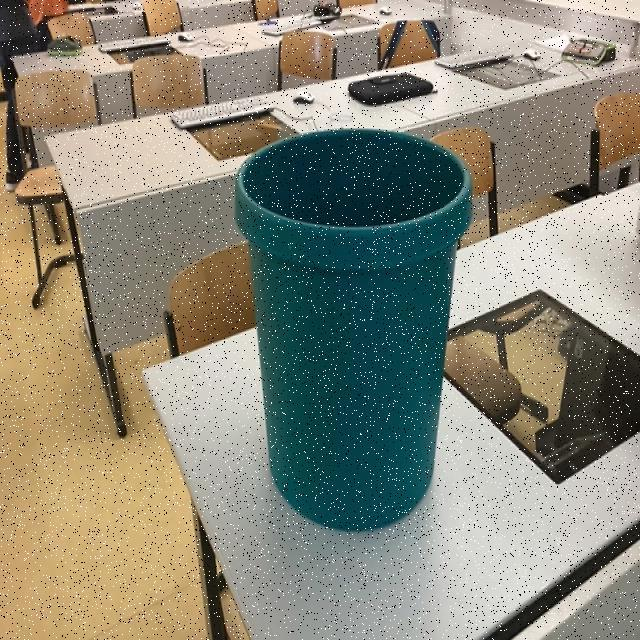garbage container: (228, 91, 504, 551)
